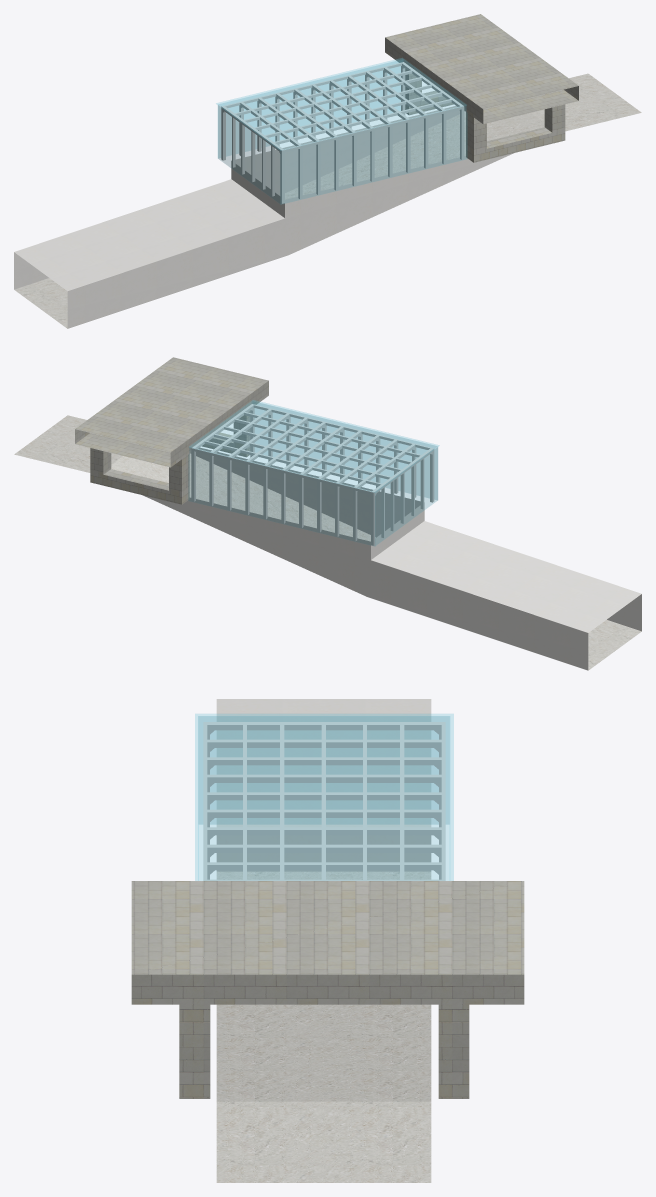
Rendered from Hypogeic Parking Gateway.FBX.
3 renders of one model, top to bottom at view 1: azimuth 30°, elevation 25°; view 2: azimuth 150°, elevation 25°; view 3: azimuth 270°, elevation 25°, orthographic. The views are drawn at different scales.
Visible parts, largest first — view 1: DiXiaXiePo, obj_027, Box767, Box793, Box795, Box796, Box794; view 2: DiXiaXiePo, obj_027, Box767, Box793, Box794, Box796, Box795; view 3: DiXiaXiePo, obj_027, Box793, Box767, Box796.
Boxes of the visible parts, x1,y1,x2,y2 form: DiXiaXiePo: (14,73,641,328); obj_027: (385,14,578,162); Box767: (221,62,464,203); Box793: (216,58,466,150); Box795: (281,105,467,204); Box796: (218,105,280,203); Box794: (218,60,402,157); DiXiaXiePo: (14,415,641,670); obj_027: (75,357,268,504); Box767: (191,404,434,545); Box793: (189,400,439,492); Box794: (188,447,374,545); Box796: (375,447,437,545); Box795: (253,401,437,499); DiXiaXiePo: (216,699,431,1182); obj_027: (131,881,524,1098); Box793: (195,714,453,880); Box767: (203,722,445,880); Box796: (199,716,448,823).
Bounding box in the file's own units: 4800 × 1111 × 1422.
